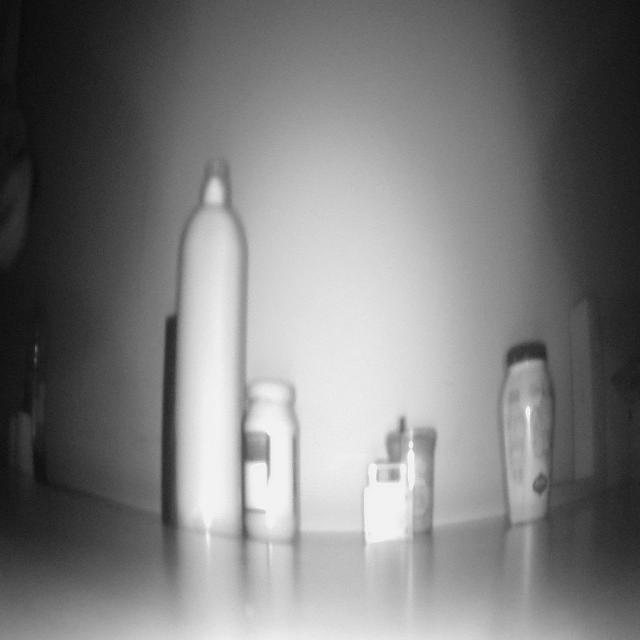targets: (168, 163, 250, 527), (538, 282, 604, 521), (502, 316, 560, 532), (241, 366, 304, 550), (380, 417, 440, 545), (164, 312, 196, 530), (22, 316, 54, 476), (358, 456, 416, 544), (12, 399, 30, 483)
